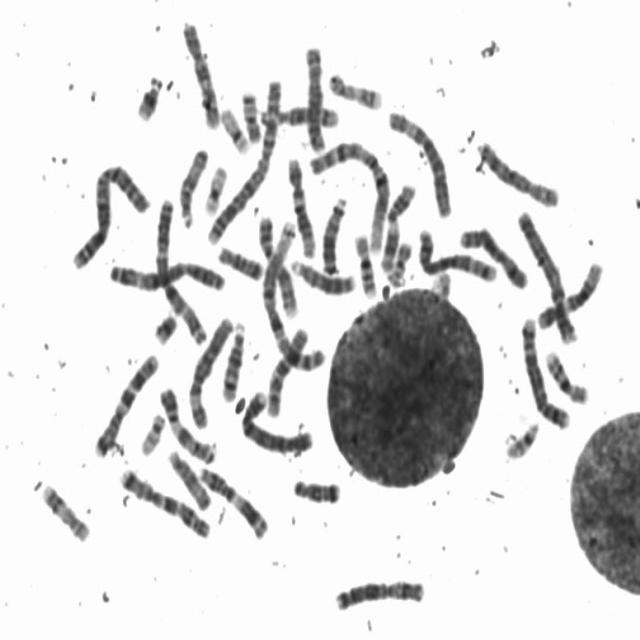A1: (255, 211, 327, 375), (305, 133, 391, 259)
A2: (203, 70, 285, 247), (68, 158, 151, 272)
A3: (152, 192, 209, 346), (105, 253, 229, 294)
B4: (513, 202, 580, 346), (236, 385, 314, 456)
B5: (517, 310, 572, 431), (414, 222, 501, 285)
C10: (177, 15, 221, 130), (263, 322, 310, 418)
C11: (194, 459, 270, 542), (379, 179, 418, 273)
C12: (533, 254, 605, 332), (284, 152, 318, 258)
C6: (384, 103, 454, 219), (183, 310, 237, 430)
C7: (89, 346, 161, 459), (115, 464, 214, 540)
C8: (472, 134, 562, 209), (300, 38, 328, 155)
C9: (155, 380, 219, 467), (254, 212, 302, 318)
D13: (288, 253, 358, 297), (318, 190, 350, 276)
D14: (254, 97, 342, 130), (217, 314, 247, 404)
D15: (164, 444, 213, 512), (176, 143, 210, 230)
E16: (541, 344, 590, 406), (350, 227, 380, 299)
E17: (36, 476, 92, 544), (324, 65, 385, 112)
E18: (214, 239, 266, 283), (289, 472, 343, 506)
F19: (216, 102, 252, 156), (200, 159, 230, 217)
F20: (385, 235, 415, 287), (238, 84, 263, 144)
G21: (132, 68, 165, 124), (149, 306, 180, 346)
G22: (501, 416, 542, 461), (136, 407, 168, 457)
X: (456, 222, 530, 291), (331, 572, 429, 613)
